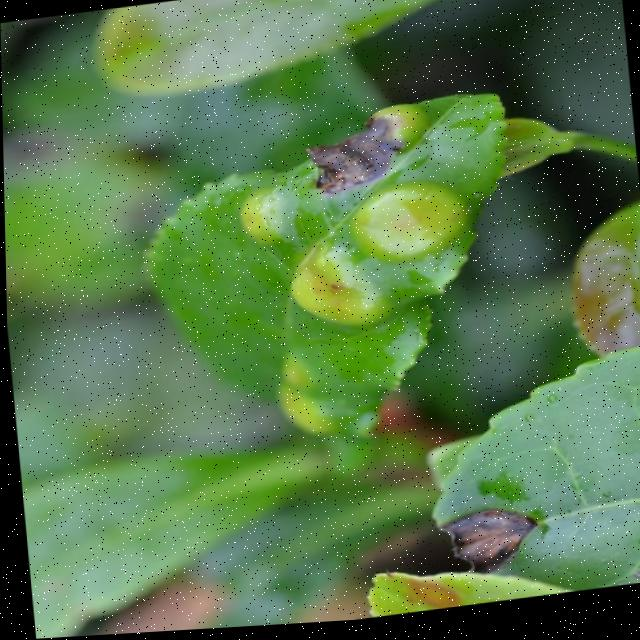Tea cake: (299, 103, 409, 203), (347, 181, 455, 267), (284, 248, 376, 335), (227, 186, 292, 252)
